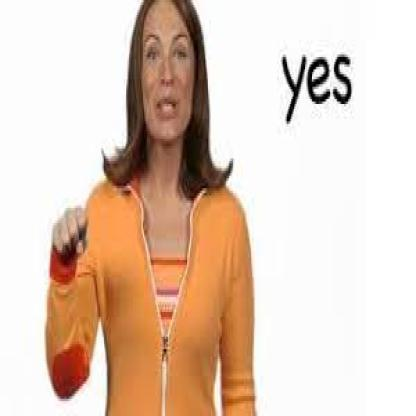yes: (38, 187, 101, 267)
